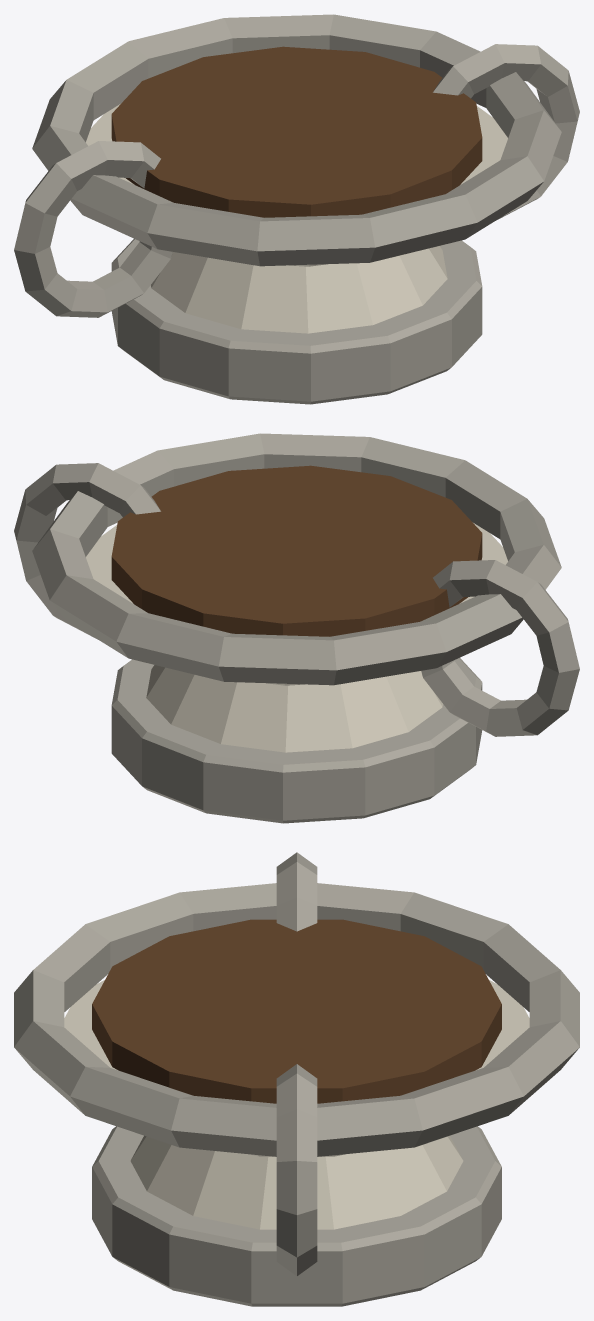
Rendered from runtime.glb.
The picture shows the model from 3 angles, top to bottom: view 1: azimuth 30°, elevation 25°; view 2: azimuth 150°, elevation 25°; view 3: azimuth 270°, elevation 25°; orthographic projection. The views are drawn at different scales.
Parts seen in each view (by area): view 1: eiffel-historic-urn-v05_nocol; view 2: eiffel-historic-urn-v05_nocol; view 3: eiffel-historic-urn-v05_nocol.
Boxes of the visible parts, <box> form: eiffel-historic-urn-v05_nocol: <box>14,14,579,404</box>; eiffel-historic-urn-v05_nocol: <box>14,433,579,823</box>; eiffel-historic-urn-v05_nocol: <box>14,852,579,1306</box>.
Bounding box in the file's own units: 2.02 × 0.8035 × 1.6.
